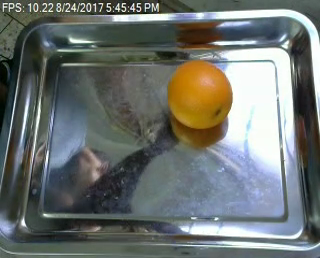Orange: (167, 59, 233, 129)
